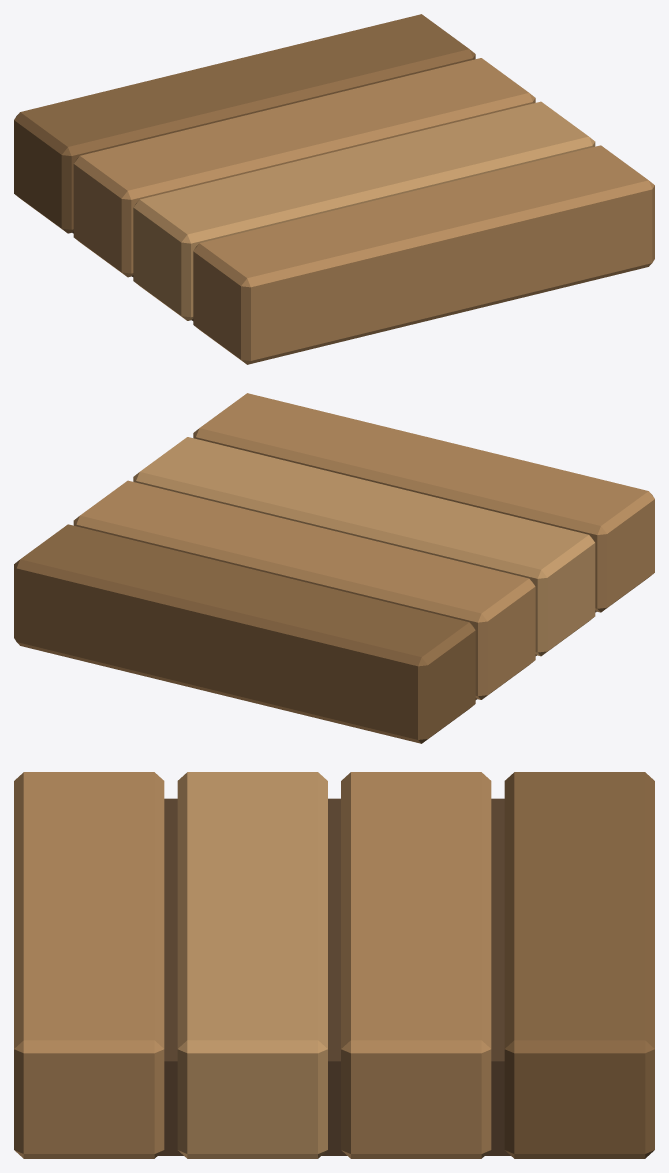
File: dalle_bois.glb
3 views of the same model, one above another, from view 1: azimuth 30°, elevation 25°; view 2: azimuth 150°, elevation 25°; view 3: azimuth 270°, elevation 25° (orthographic). The views are drawn at different scales.
Parts seen in each view (by area): view 1: dalle_bois_planche.002, dalle_bois_planche_claire.002, dalle_bois_planche_sombre.002; view 2: dalle_bois_planche_sombre.002, dalle_bois_planche.002, dalle_bois_planche_claire.002; view 3: dalle_bois_planche.002, dalle_bois_planche_claire.002, dalle_bois_planche_sombre.002, dalle_bois_bois_sombre.002.
Part boxes in pixels (box(x1,y1,x2,y2)): dalle_bois_planche.002: box(73, 58, 654, 364); dalle_bois_planche_claire.002: box(133, 101, 595, 320); dalle_bois_planche_sombre.002: box(14, 14, 475, 233); dalle_bois_planche_sombre.002: box(14, 524, 475, 743); dalle_bois_planche.002: box(73, 393, 654, 699); dalle_bois_planche_claire.002: box(133, 437, 595, 656); dalle_bois_planche.002: box(14, 772, 491, 1158); dalle_bois_planche_claire.002: box(177, 772, 327, 1158); dalle_bois_planche_sombre.002: box(504, 772, 654, 1158); dalle_bois_bois_sombre.002: box(158, 798, 510, 1155).
Size of the model in its own units: 0.5 by 0.1 by 0.49.
